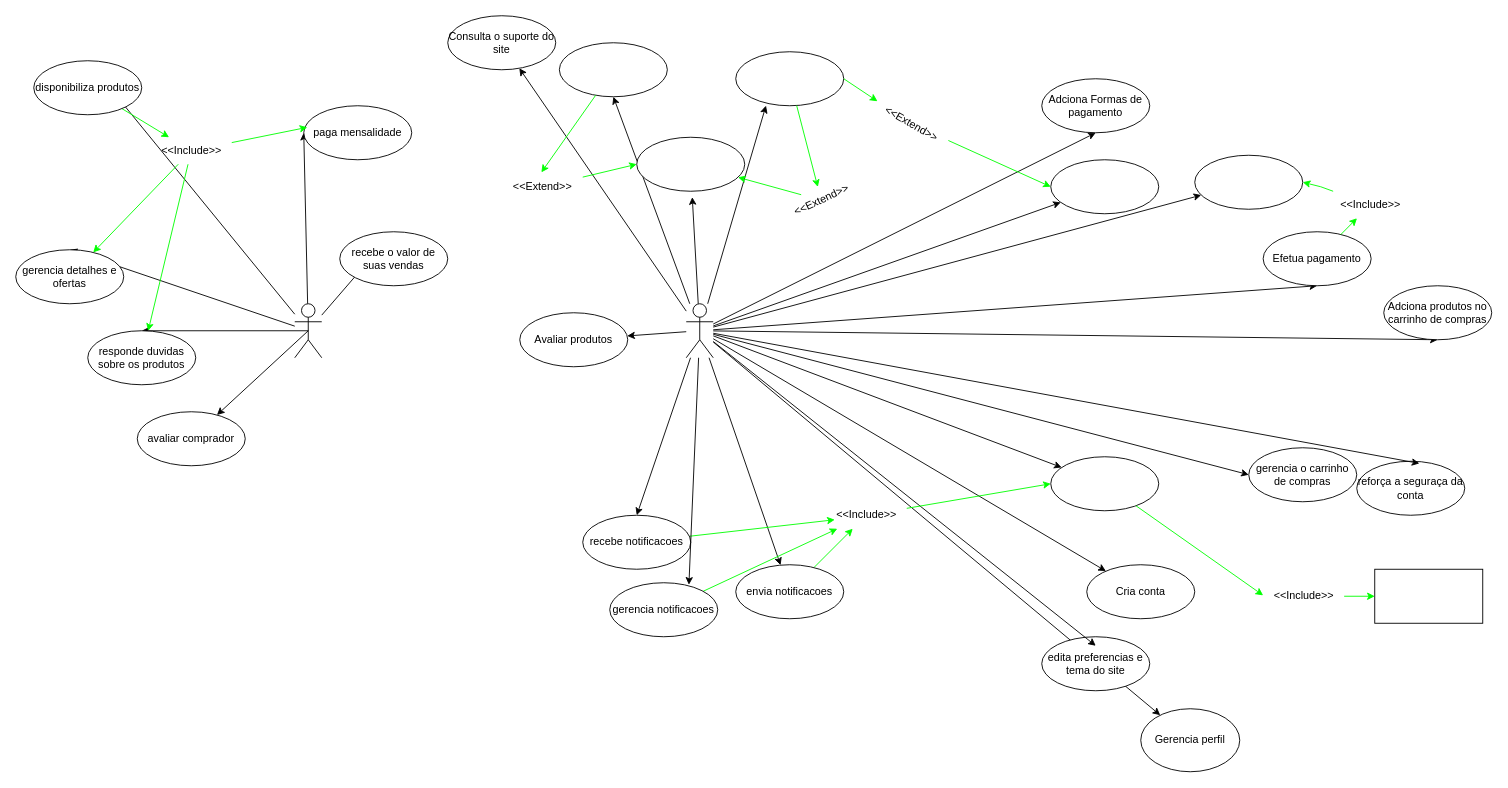
Some shapes in this 1508 by 788 pixel diagram are drawn without their labels. The shapes that lost their labels are listed below. From the top down, each one's centre as x and y in pixels, then its label:
At pixel 612 69: "realiza pesquisas de pessoas e lojas".
At pixel 789 78: "realiza pesquisas de produtos".
At pixel 690 163: "usa filtros de pesquisa".
At pixel 1248 181: "Efetua compra".
At pixel 1104 186: "Visualiza produtos".
At pixel 308 330: "Loja".
At pixel 699 330: "Usuário".
At pixel 1104 483: "Efetua Login".
At pixel 1428 595: "Bloco completo".
